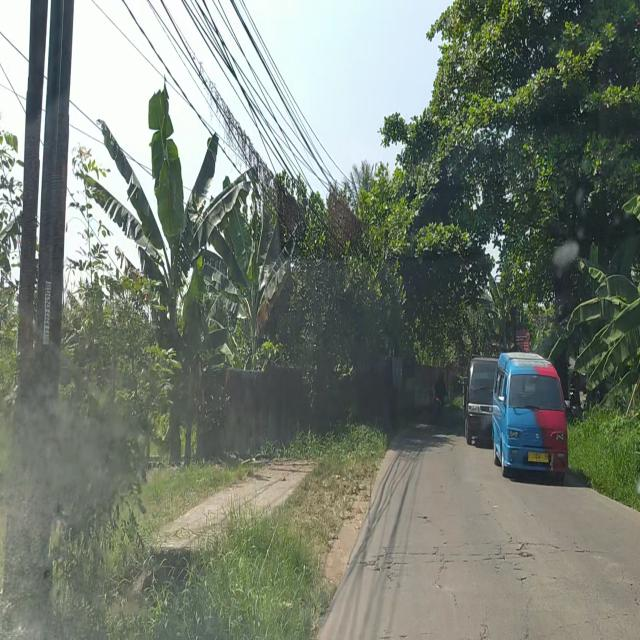Drain Hole: (358, 522, 549, 597)
